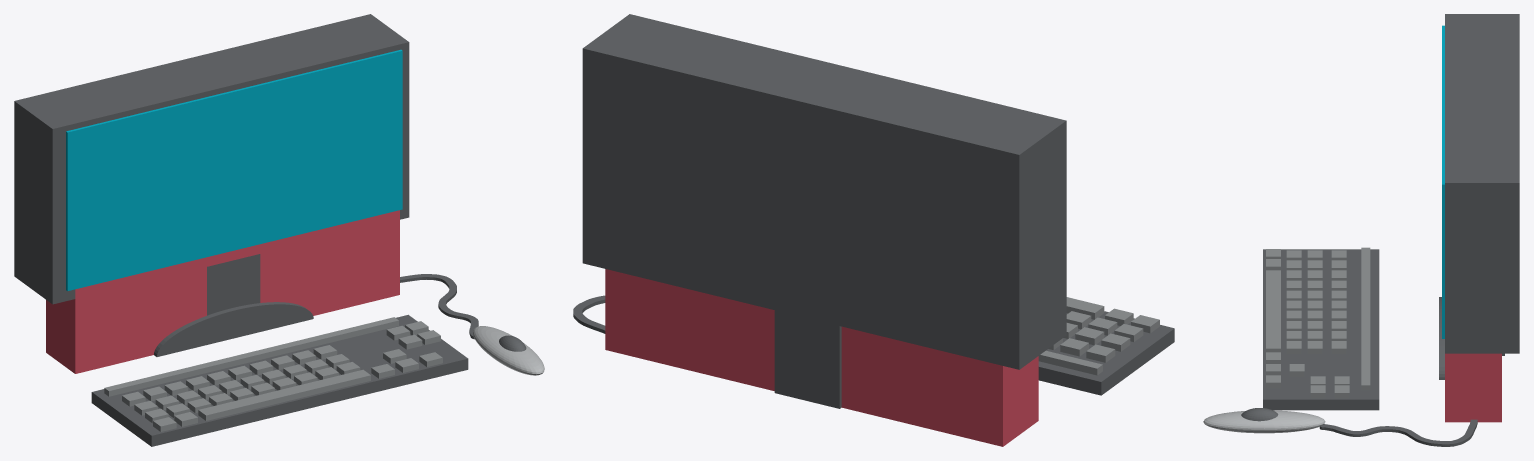
The model's file is asset.glb.
3 views of the same model, side by side, from view 1: azimuth 30°, elevation 25°; view 2: azimuth 150°, elevation 25°; view 3: azimuth 270°, elevation 25° (orthographic). The views are drawn at different scales.
Visible parts, largest first — view 1: Mesh_Mesh_head_geo.001_lambert2SG.001; view 2: Mesh_Mesh_head_geo.001_lambert2SG.001; view 3: Mesh_Mesh_head_geo.001_lambert2SG.001.
Part boxes in pixels (x1,y1,x2,y2): Mesh_Mesh_head_geo.001_lambert2SG.001: [14, 14, 544, 446]; Mesh_Mesh_head_geo.001_lambert2SG.001: [573, 14, 1174, 446]; Mesh_Mesh_head_geo.001_lambert2SG.001: [1203, 14, 1519, 446].
Size of the model in its own units: 150 by 90 by 106.
